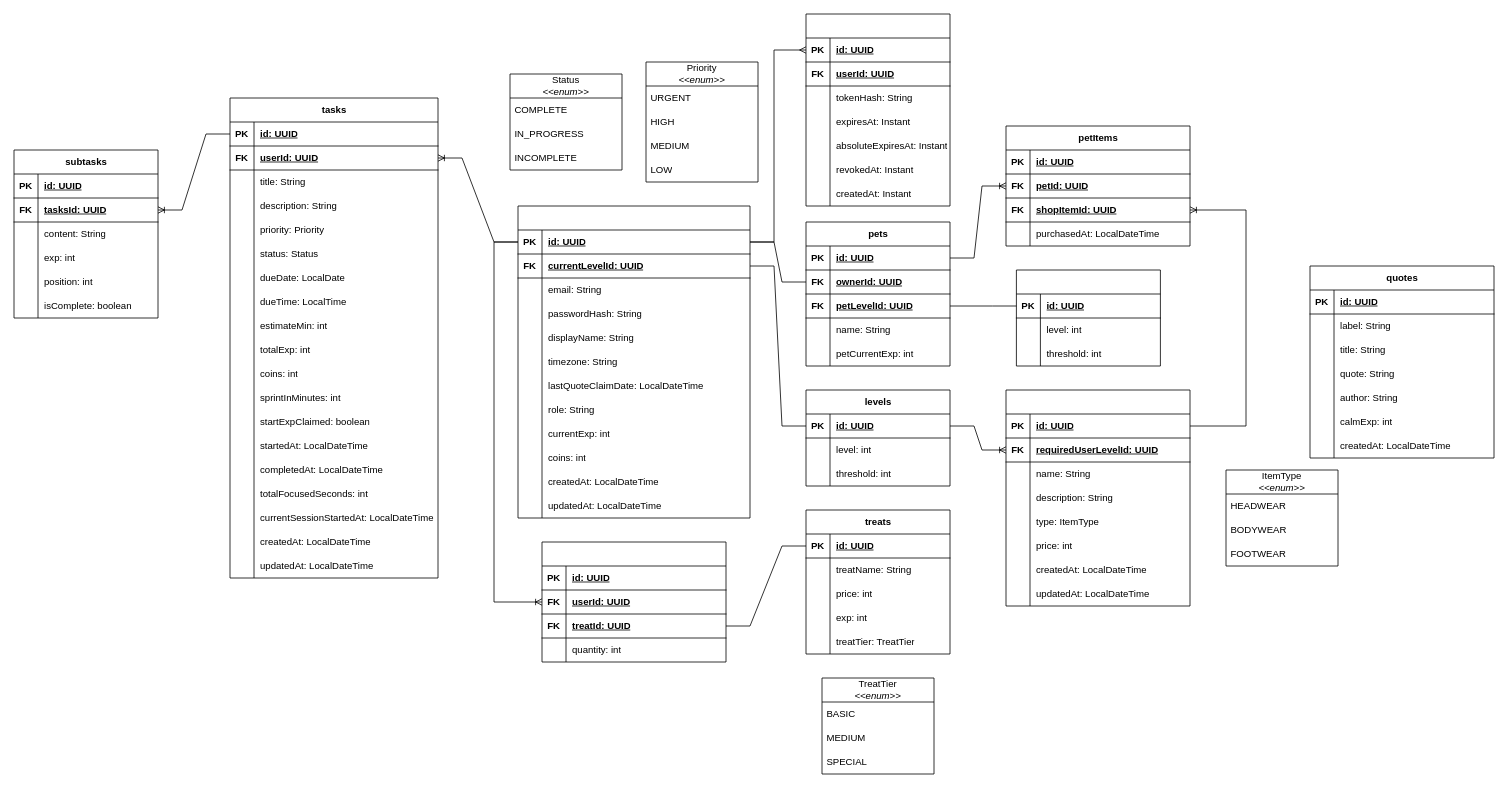
The diagram is 1508 pixels wide and 788 high, and some of its shapes have lost their labels. Each missing label, with the box of its shape:
InventoryItem: (541, 541, 726, 662)
petLevels: (1016, 269, 1160, 366)
refresh_token: (805, 13, 950, 206)
shopItems: (1005, 389, 1190, 606)
users: (517, 205, 750, 518)
